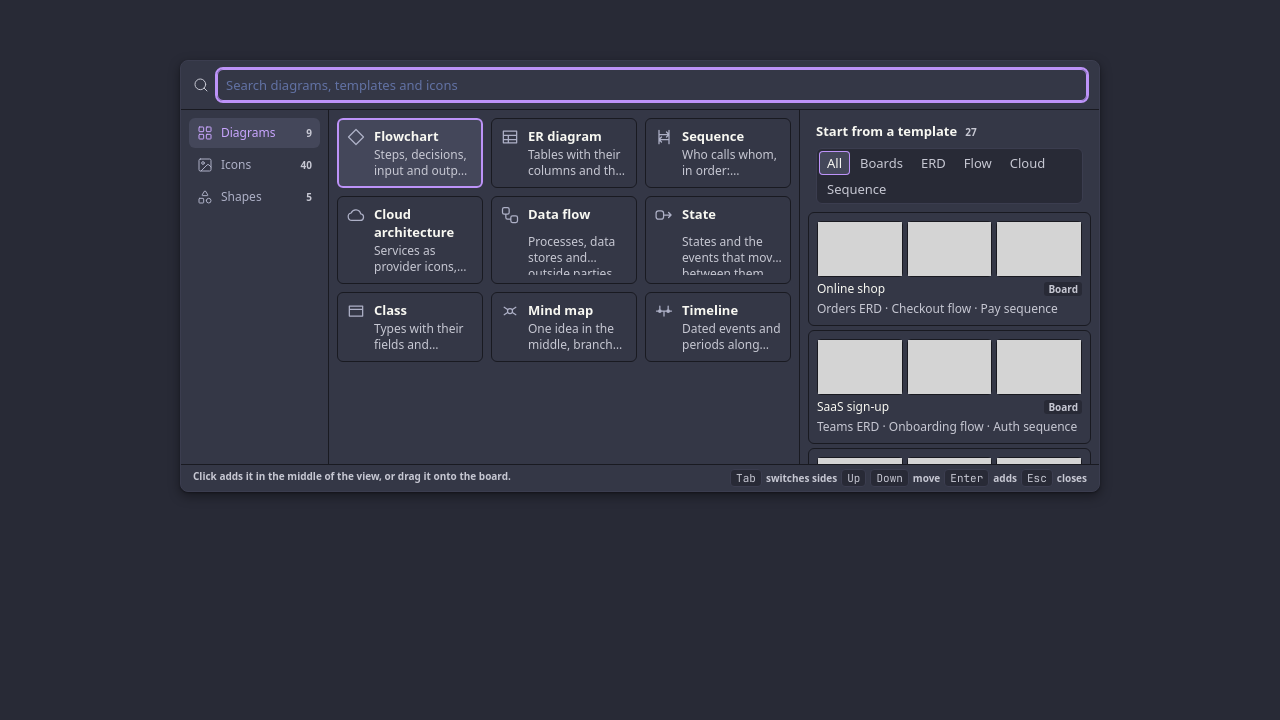
Test: no_template_matches_says_so
The width and height of the screenshot is (1280, 720).
Type "  qqqq " into the dropdown.
click(652, 85); type("  qqqq ")  # box [217,69,1087,101]
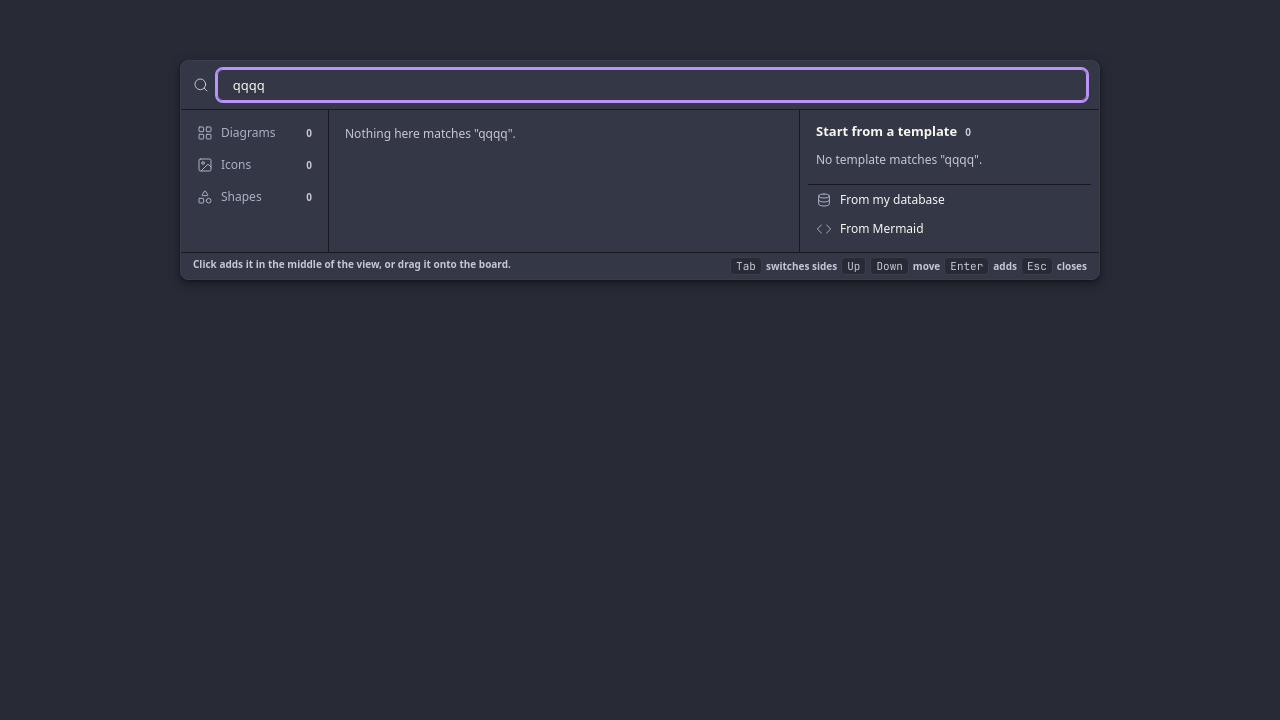
Now the text "No template matches \"qqqq\"." is shown, box [816,151,982,168]
